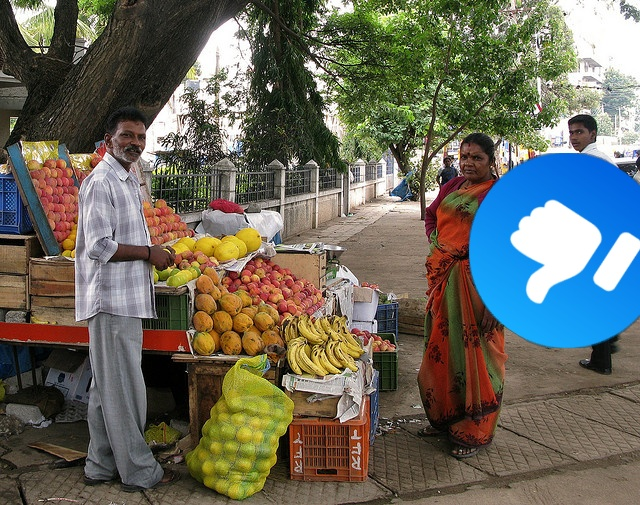like: (469, 153, 640, 348)
